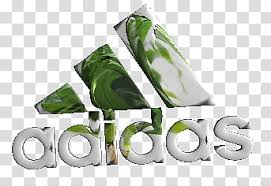adidas: (12, 2, 253, 168)
